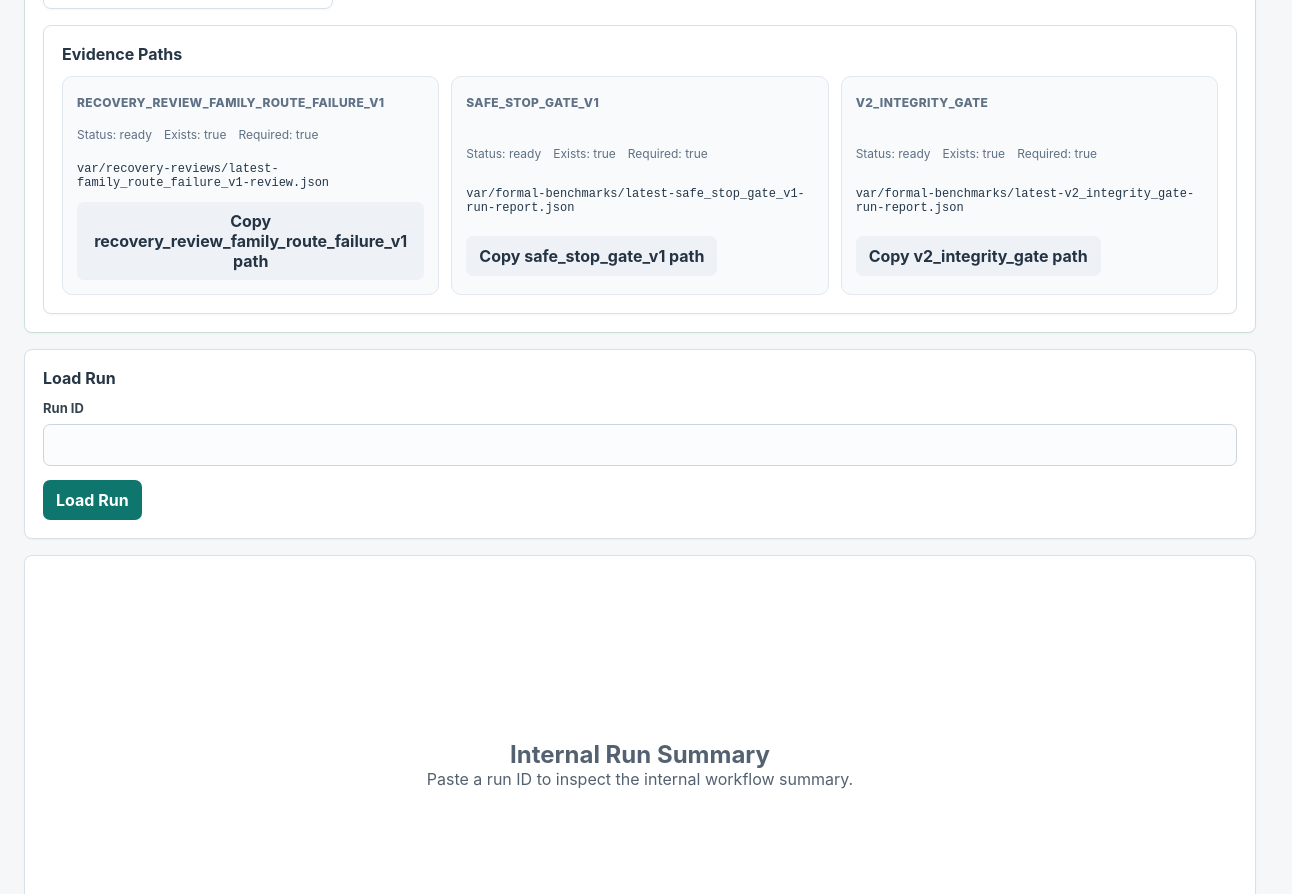
Test: ObservabilityPage › shows a partial recovery state when no valid recovery attempts are available
This screenshot has width=1292, height=894.
(page scrolled)
Type "run-1" into the field labelled "Run ID" at (640,444), box [43,424,1237,466]
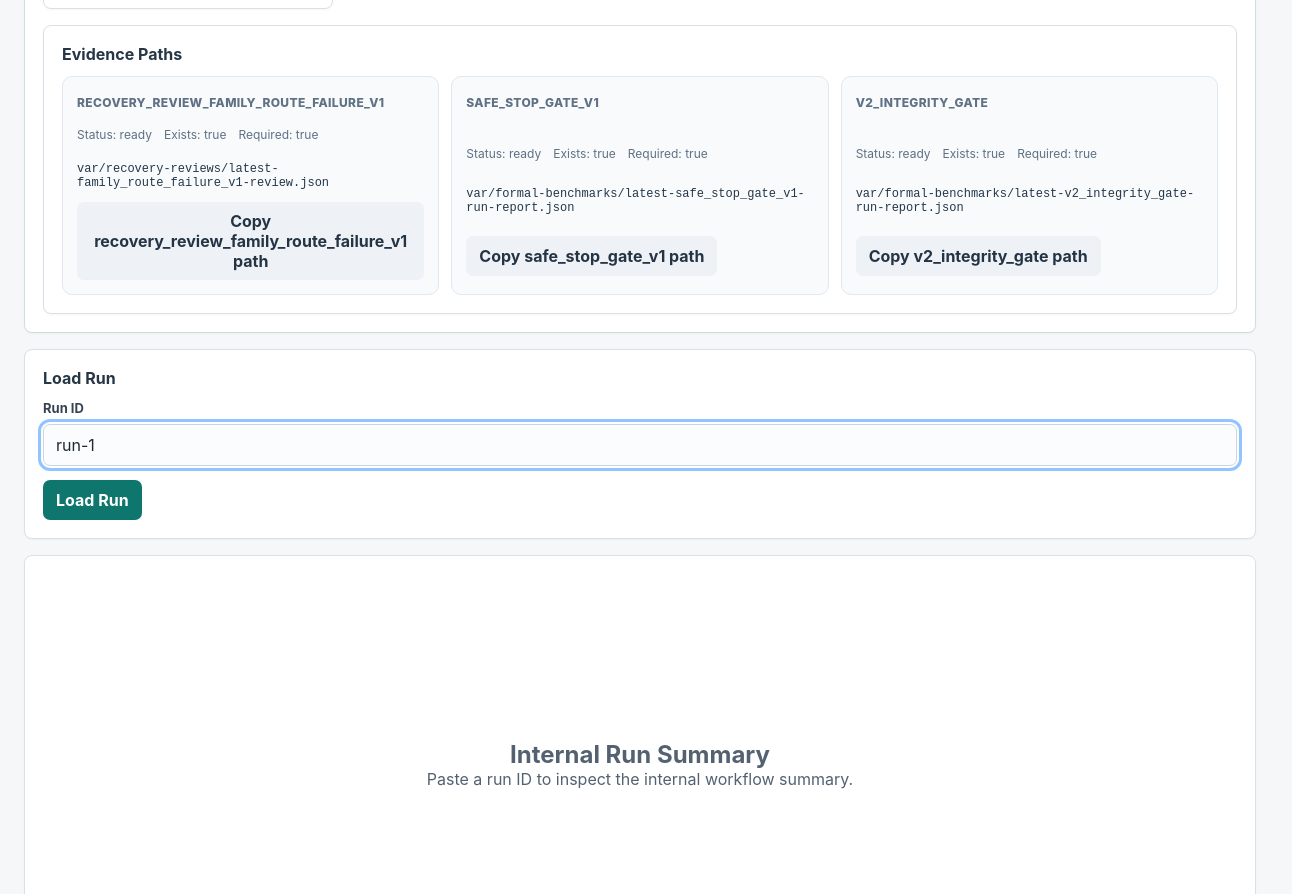
Click the button "Load Run" at (92,500), box [43,480,142,520]
(page scrolled)
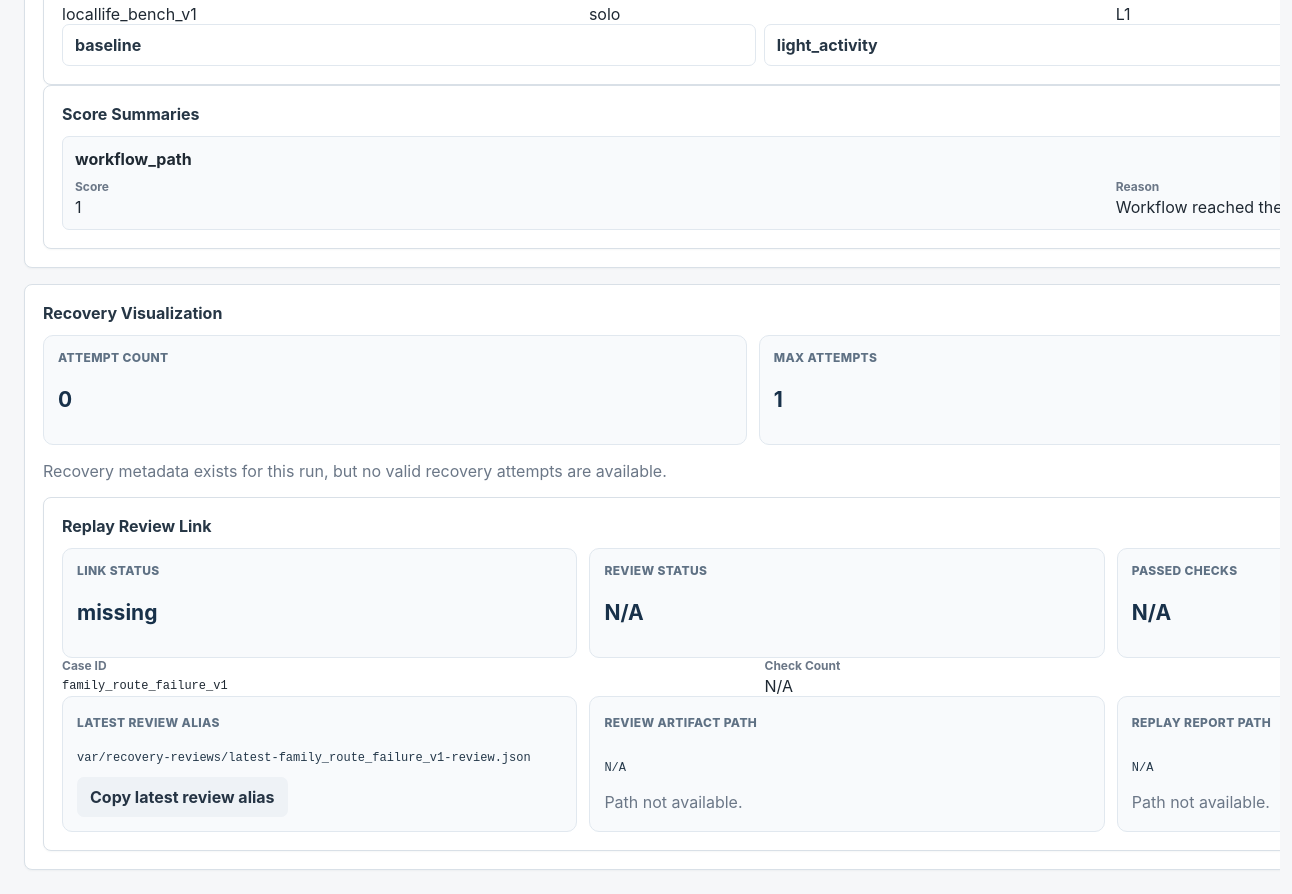
Check: the text "Recovery metadata exists for this run, but no valid recovery attempts are available." is shown, box [43,460,667,480]
